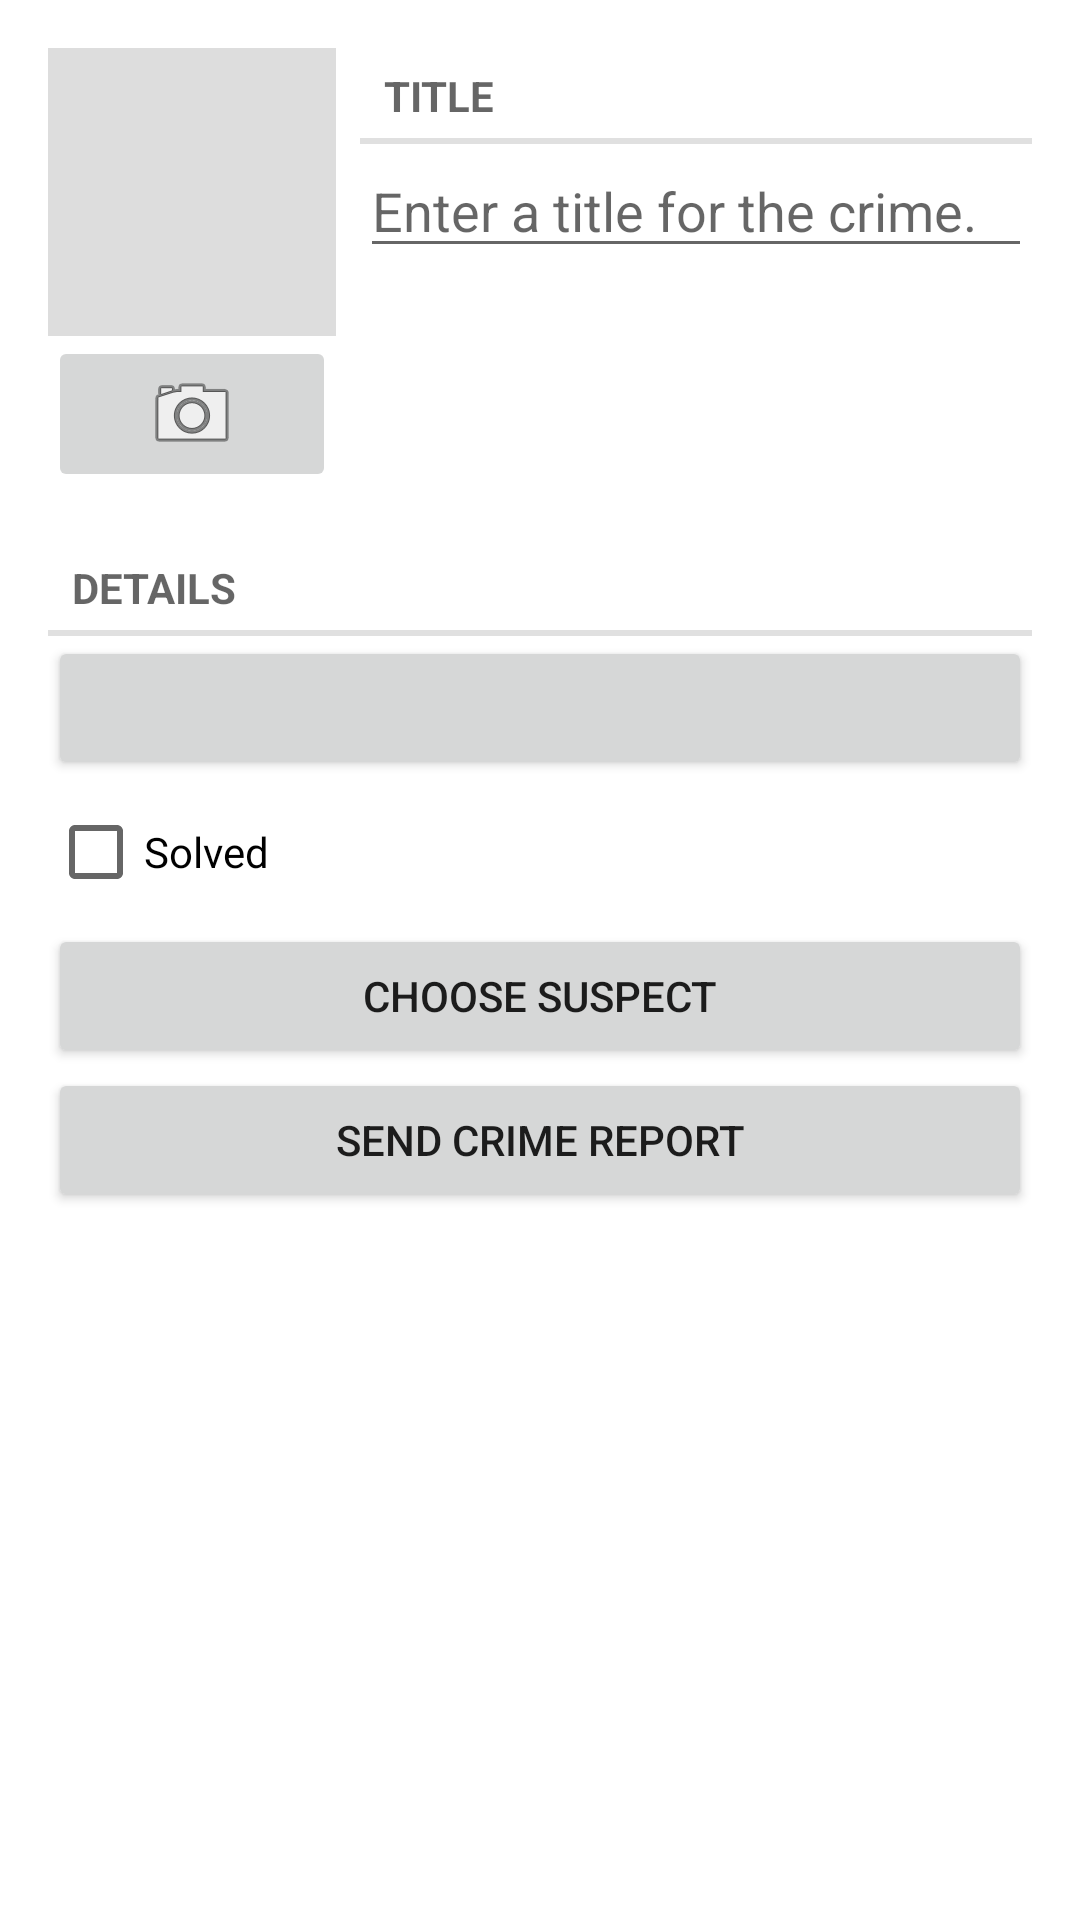

Where to tap for icons on this 1080px x 1920px app screen, as (x=x, y=y):
Take photo of crime scene: (x=192, y=414)
